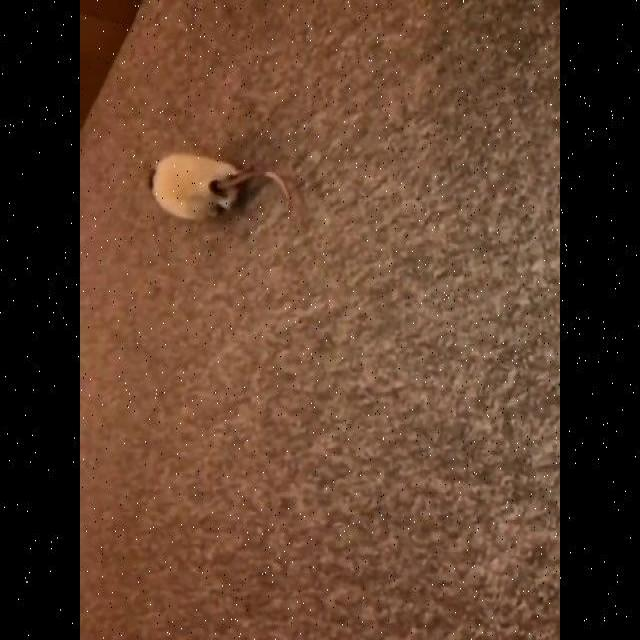rat: (137, 148, 295, 225)
